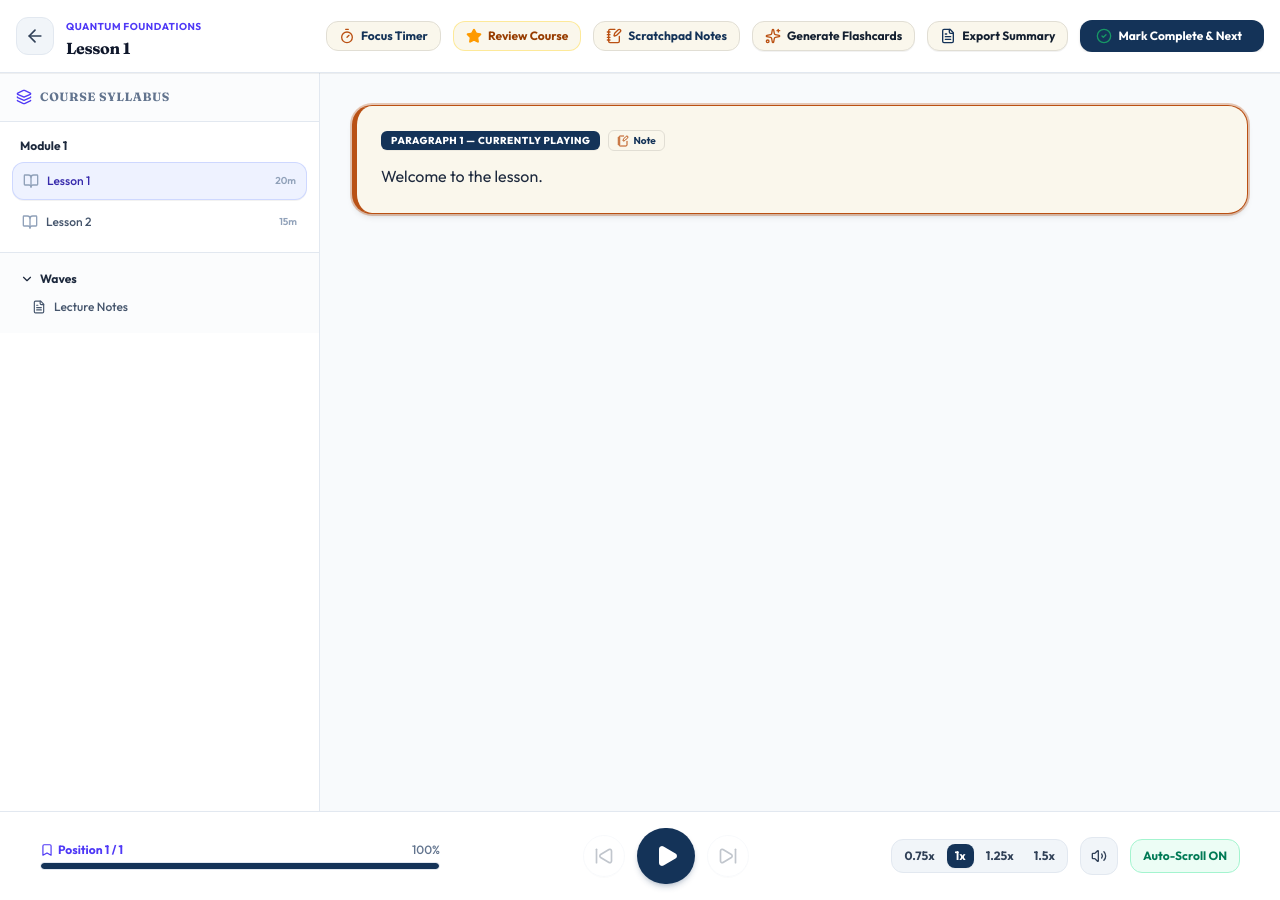
CoursePlayer › selecting a Page fetches its body via getPage (one page at a time) and renders it through MarkdownViewer
The width and height of the screenshot is (1280, 900).
Check: the text "Welcome to the lesson." is shown, box [381,166,543,186]
Click the button "Lecture Notes" at (91, 306), box [12,293,307,321]
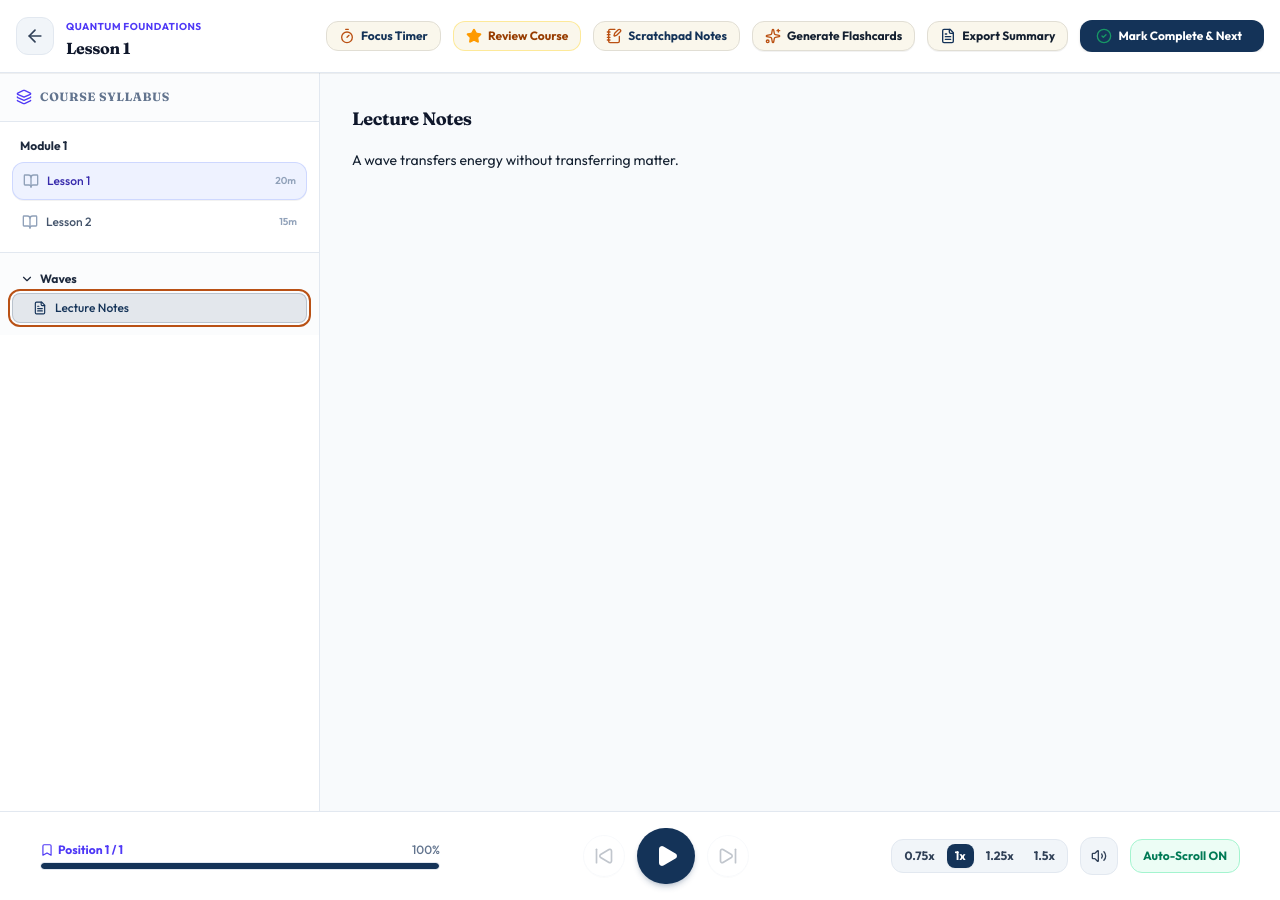
Check: the text "A wave transfers energy without transferring matter." is shown, box [352,151,679,169]
Check: the button "Welcome to the lesson." is gone
